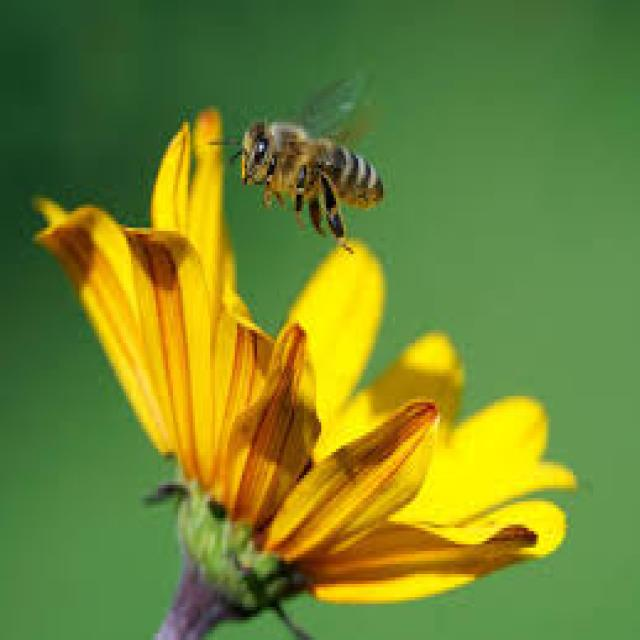Bees: (210, 72, 386, 258)
